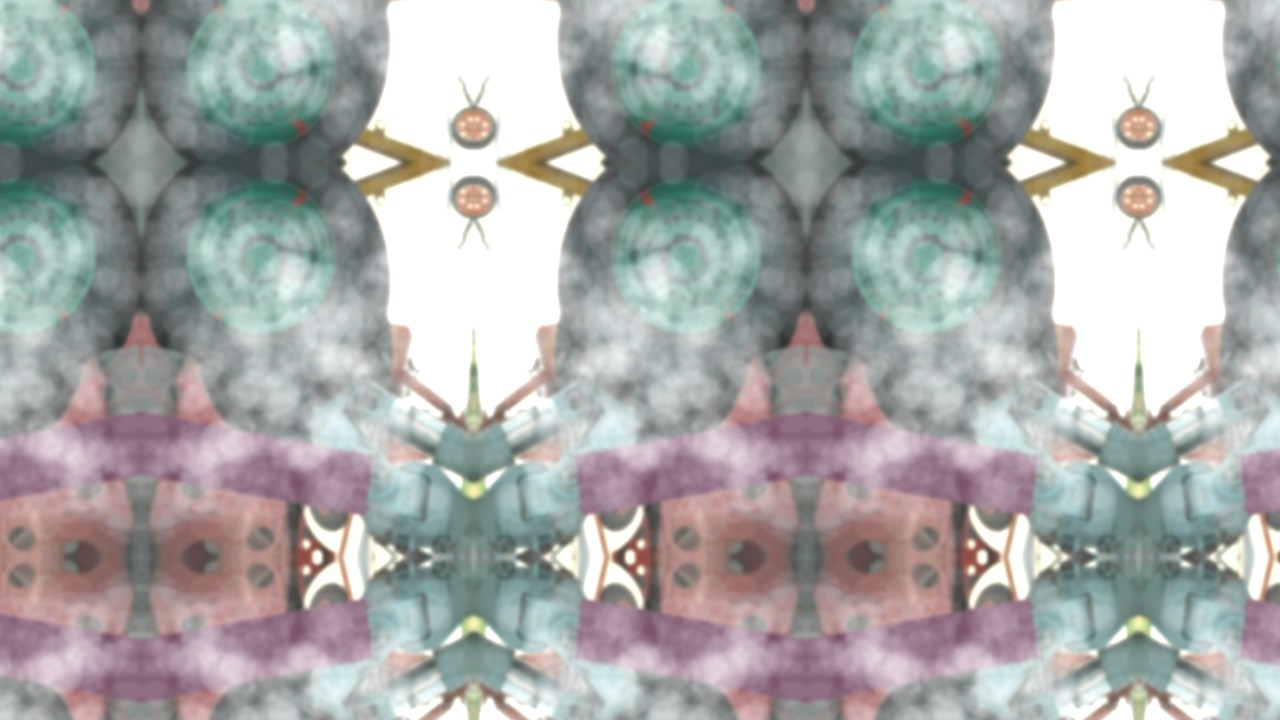chock: (806, 344, 981, 557), (141, 344, 315, 557), (632, 344, 806, 557), (0, 344, 141, 557), (806, 558, 981, 720), (141, 558, 315, 720), (632, 558, 806, 720), (0, 558, 141, 720), (140, 303, 229, 523), (718, 303, 807, 523), (52, 303, 140, 523), (807, 303, 895, 523), (140, 592, 229, 720), (718, 592, 807, 720), (52, 592, 140, 720), (807, 592, 895, 720)
wheel: (806, 162, 1073, 441), (141, 162, 407, 441), (540, 162, 806, 441), (806, 0, 1073, 162), (141, 0, 407, 162), (540, 0, 806, 162), (0, 162, 141, 441), (0, 0, 141, 162), (1206, 162, 1280, 441), (806, 674, 1073, 720), (141, 674, 407, 720), (540, 674, 806, 720), (1206, 0, 1280, 162)
